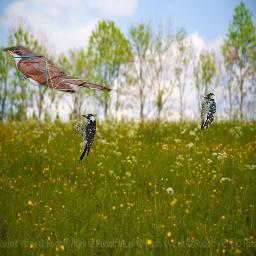Cuckoo: (0, 43, 114, 98)
Woodpecker: (75, 114, 96, 164), (201, 93, 216, 131)
